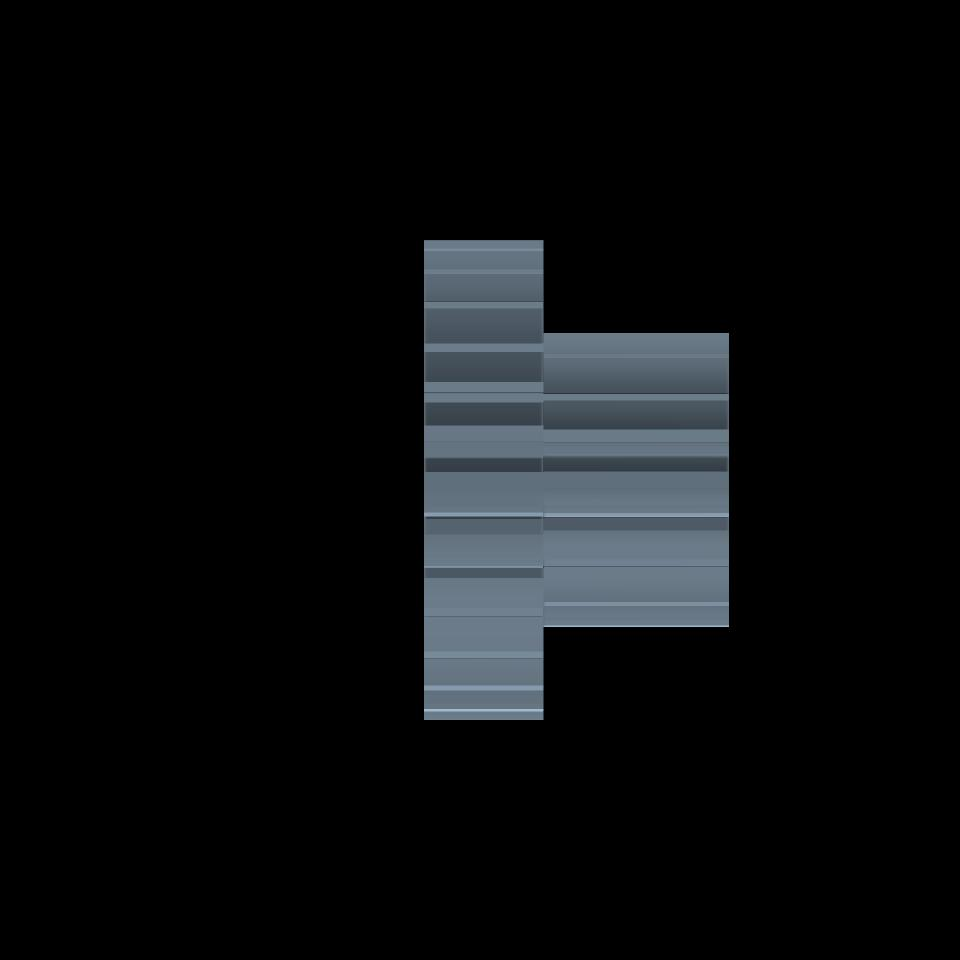Straight: (425, 239, 542, 719), (542, 333, 728, 626)
